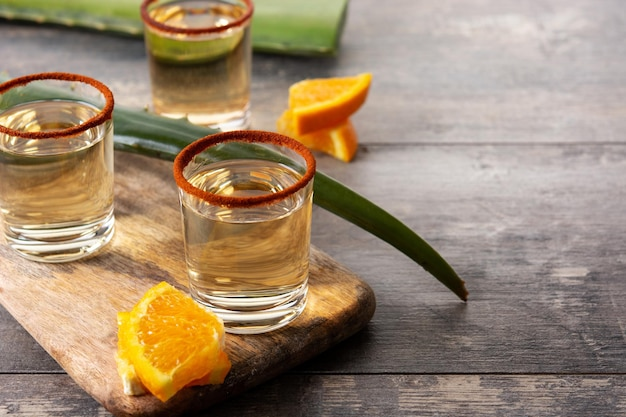alcohol: (173, 126, 315, 338), (0, 68, 117, 262), (141, 0, 256, 137)
